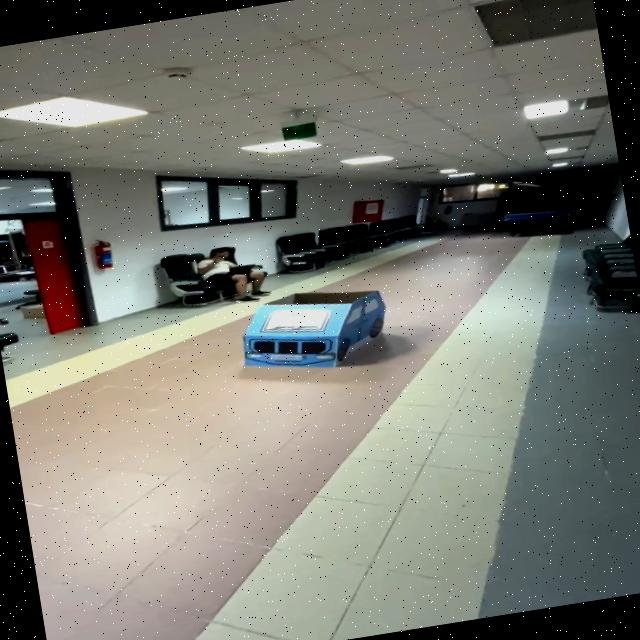blue_car: (218, 275, 420, 394)
